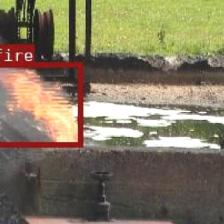fire: (0, 61, 82, 145)
